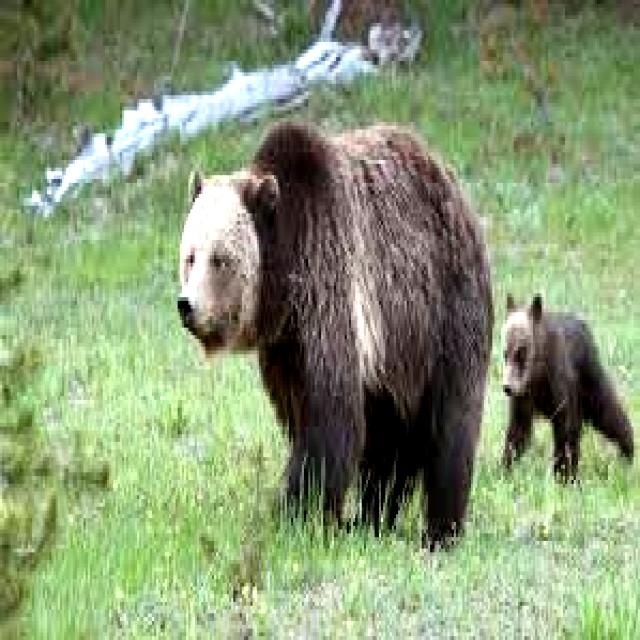bear: (184, 103, 484, 560), (504, 292, 620, 488)
